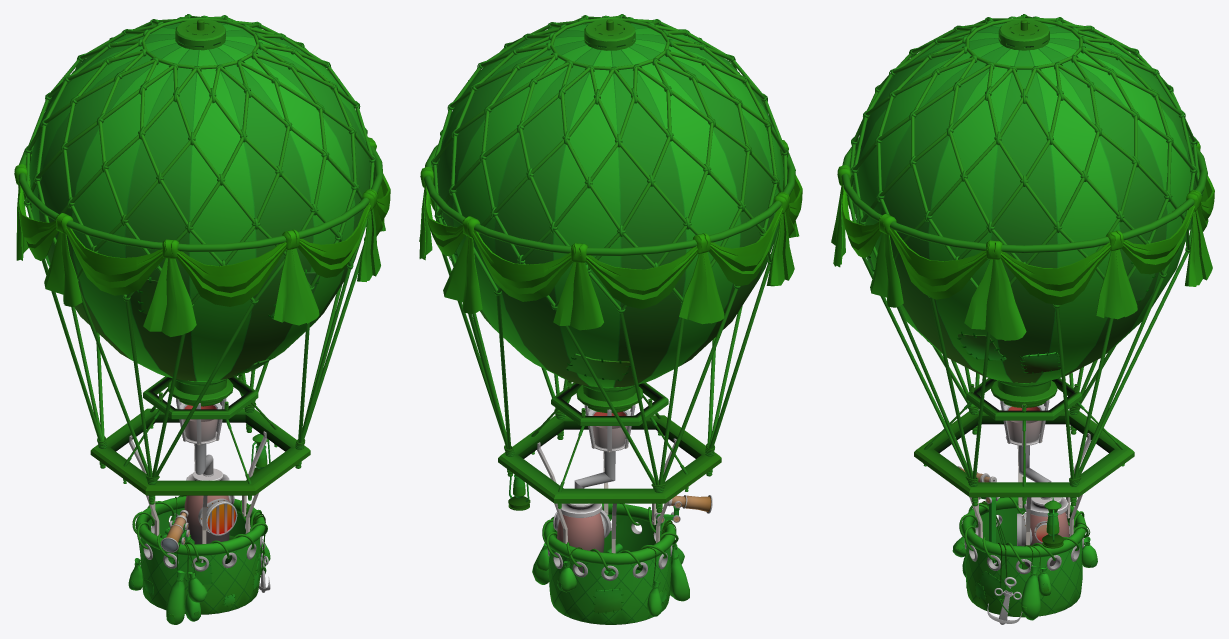
Rendered from hot_air_balloon-green.glb.
The picture shows the model from 3 angles, left to right: view 1: azimuth 30°, elevation 25°; view 2: azimuth 150°, elevation 25°; view 3: azimuth 270°, elevation 25°; orthographic projection.
Parts seen in each view (by area): view 1: BezierCurve.003; view 2: BezierCurve.003; view 3: BezierCurve.003.
Part boxes in pixels (box(x1,y1,x2,y2)): BezierCurve.003: box(14, 14, 390, 624); BezierCurve.003: box(419, 14, 802, 624); BezierCurve.003: box(831, 14, 1214, 624).
Bounding box in the file's own units: 10.02 × 16.79 × 10.09.
